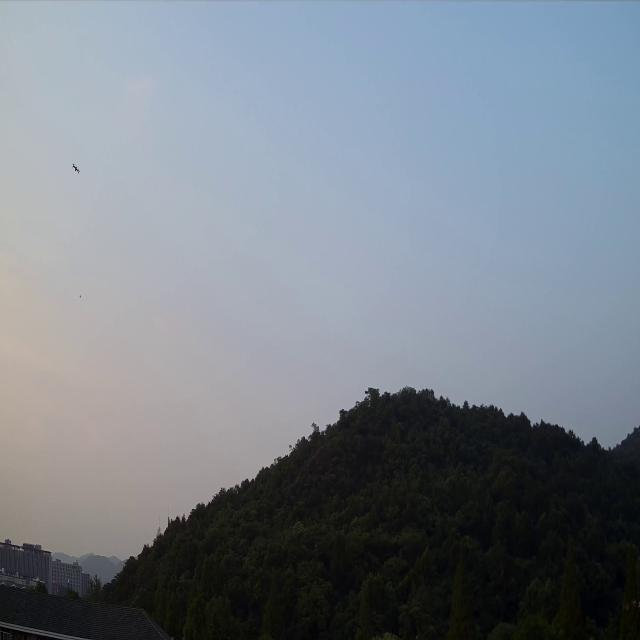UAV: (71, 161, 80, 174)
